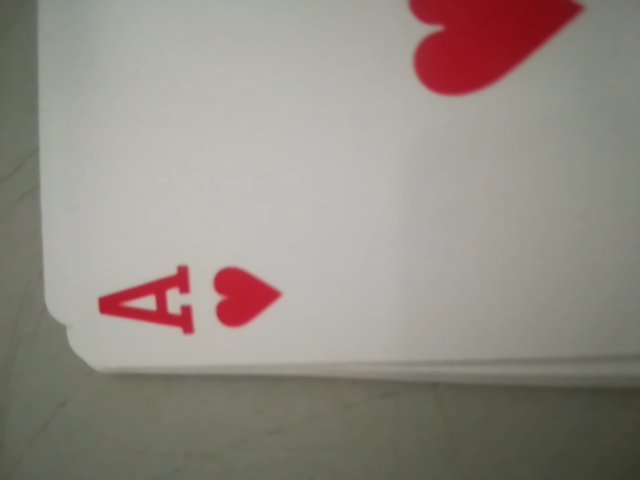hx a: (88, 222, 297, 358)
